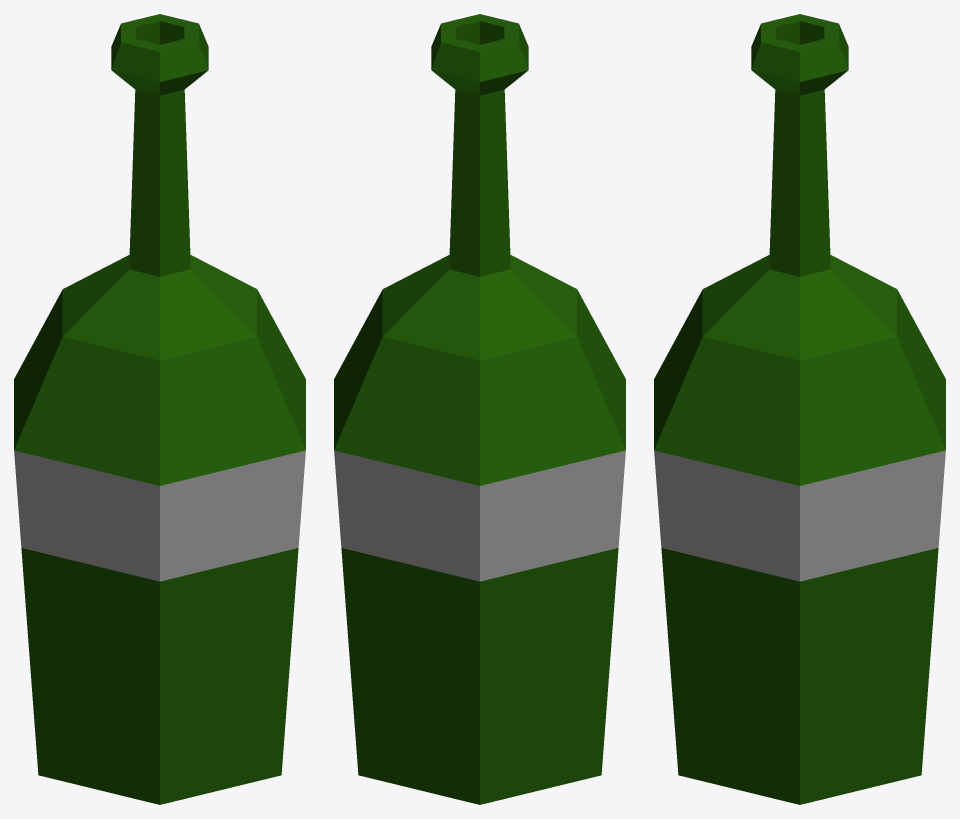
The model's file is Bottle.fbx.
3 renders of one model, left to right at view 1: azimuth 30°, elevation 25°; view 2: azimuth 150°, elevation 25°; view 3: azimuth 270°, elevation 25°, orthographic.
Visible parts, largest first — view 1: Bottle; view 2: Bottle; view 3: Bottle.
Part boxes in pixels (x1,y1,x2,y2): Bottle: (14, 14, 305, 804); Bottle: (334, 14, 625, 804); Bottle: (654, 14, 945, 804).
Size of the model in its own units: 6 by 14 by 5.2.
